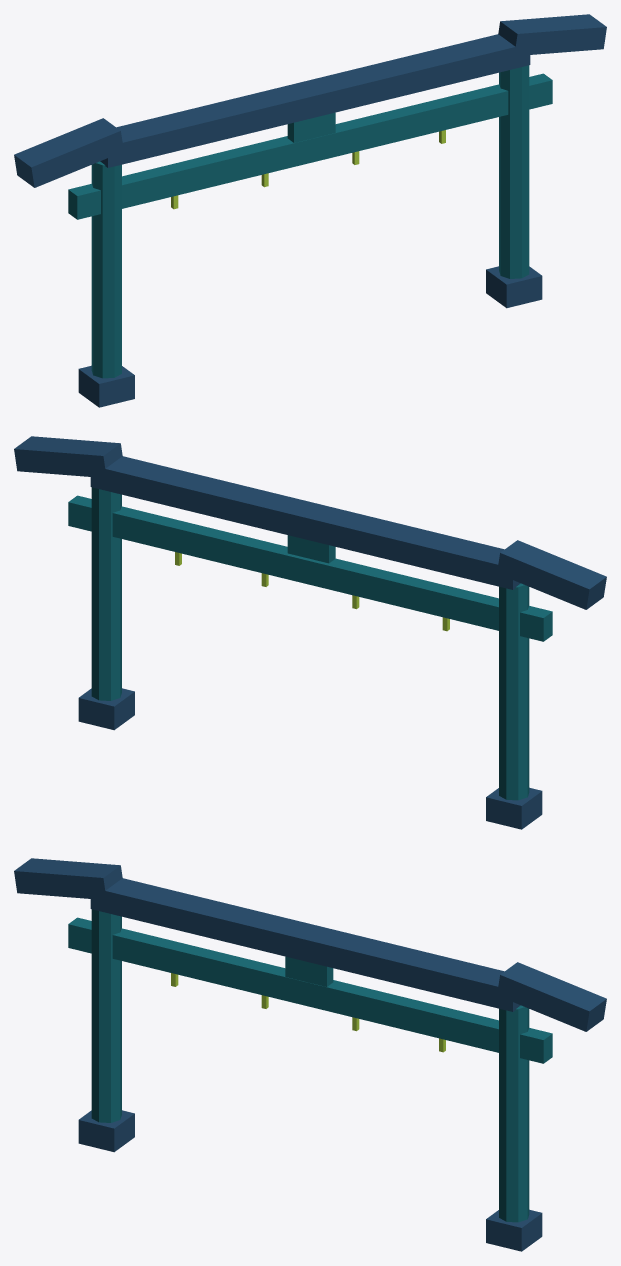
File: torii.glb
3 views of the same model, one above another, from view 1: azimuth 30°, elevation 25°; view 2: azimuth 150°, elevation 25°; view 3: azimuth 330°, elevation 25° (orthographic).
Parts seen in each view (by area): view 1: Frame, Kasagi; view 2: Frame, Kasagi; view 3: Frame, Kasagi.
Boxes of the visible parts, x1=… form: Frame: x1=68, y1=65, x2=552, y2=378; Kasagi: x1=14, y1=14, x2=606, y2=407; Frame: x1=68, y1=487, x2=552, y2=800; Kasagi: x1=14, y1=436, x2=606, y2=829; Frame: x1=68, y1=909, x2=552, y2=1222; Kasagi: x1=14, y1=858, x2=606, y2=1251.
Bounding box in the file's own units: 15.26 × 6.84 × 0.95.
